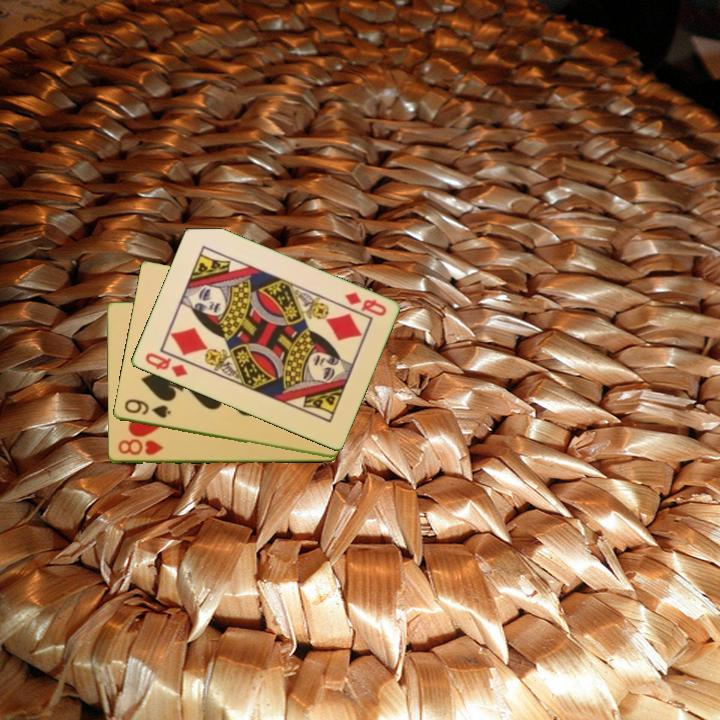8h: (114, 437, 166, 458)
9s: (121, 396, 173, 421)
Qd: (141, 349, 190, 380), (341, 289, 389, 319)
